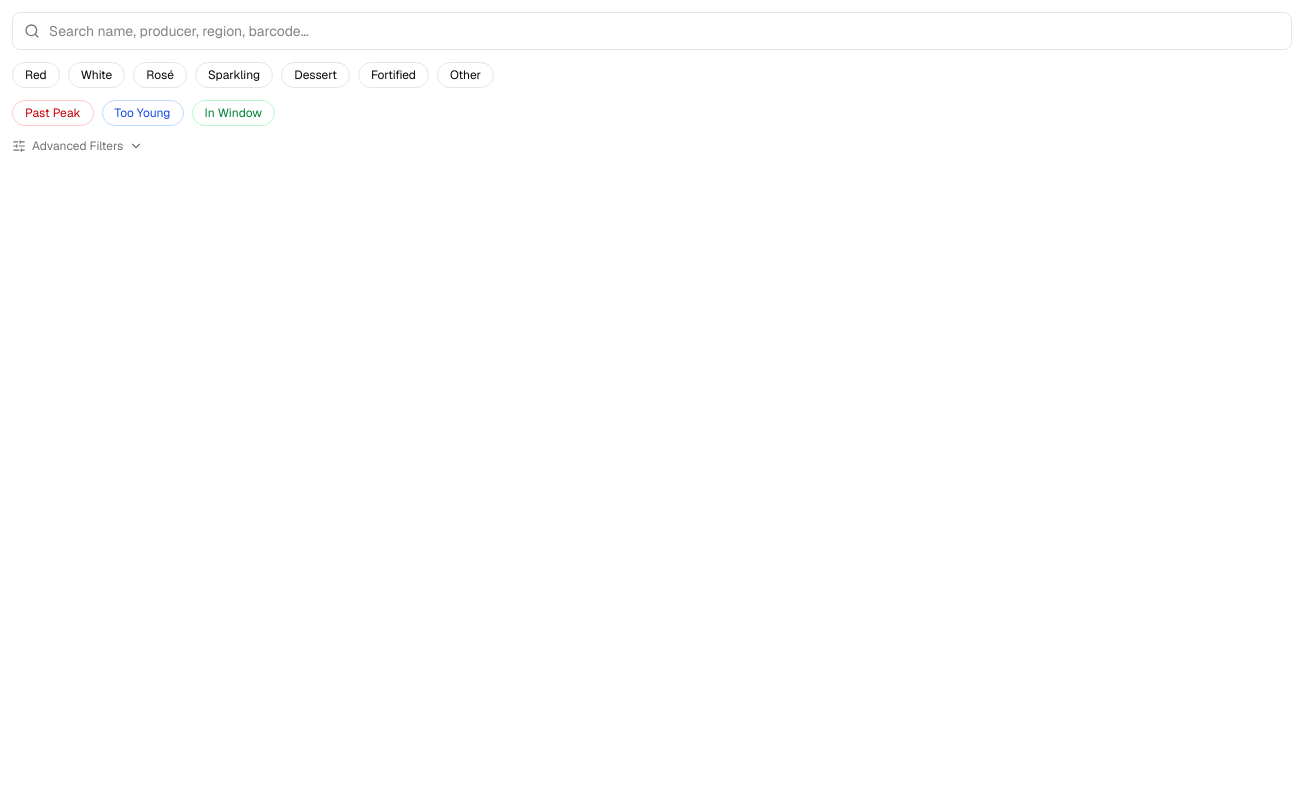
it: WineSearch › advanced panel opens on toggle click
Click the button "Advanced Filters": (78, 146) [12, 138, 143, 154]
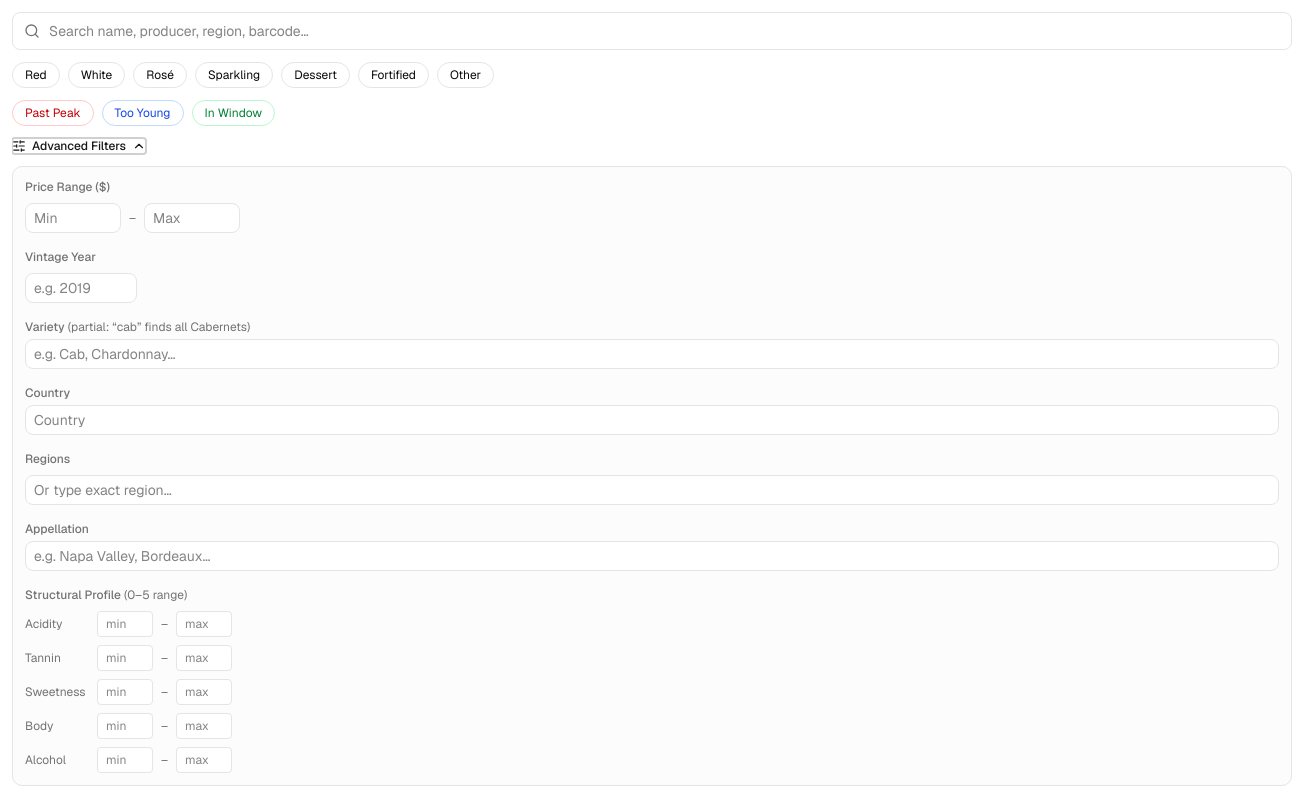
expect the field with placeholder "Country" is shown: met, box [25, 405, 1279, 435]
